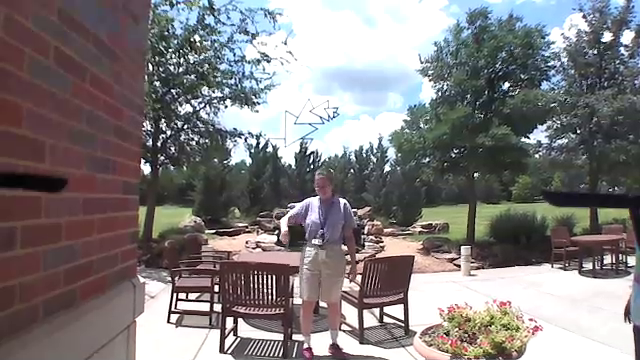down: (274, 225, 291, 254)
